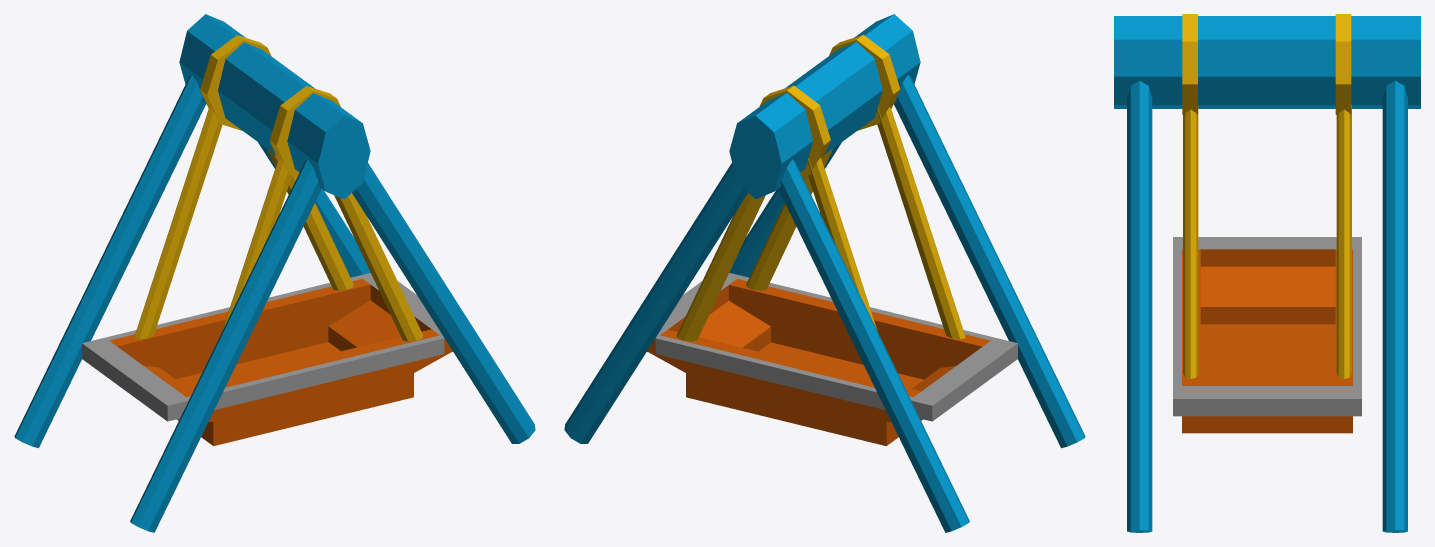
File: gemi 1.fbx
3 renders of one model, left to right at view 1: azimuth 30°, elevation 25°; view 2: azimuth 150°, elevation 25°; view 3: azimuth 270°, elevation 25°, orthographic. The views are drawn at different scales.
Parts seen in each view (by area): view 1: taşıyıcı, Gemi.002, Tutaç; view 2: taşıyıcı, Gemi.002, Tutaç; view 3: taşıyıcı, Gemi.002, Tutaç.
Part boxes in pixels (box(x1,y1,x2,y2)): taşıyıcı: box(14, 14, 535, 532); Gemi.002: box(82, 273, 452, 446); Tutaç: box(134, 35, 423, 341); taşıyıcı: box(564, 14, 1085, 532); Gemi.002: box(647, 273, 1017, 446); Tutaç: box(676, 34, 965, 341); taşıyıcı: box(1114, 16, 1420, 532); Gemi.002: box(1173, 237, 1361, 433); Tutaç: box(1182, 14, 1351, 378).
Bounding box in the file's own units: 2016 × 1823 × 1200.
